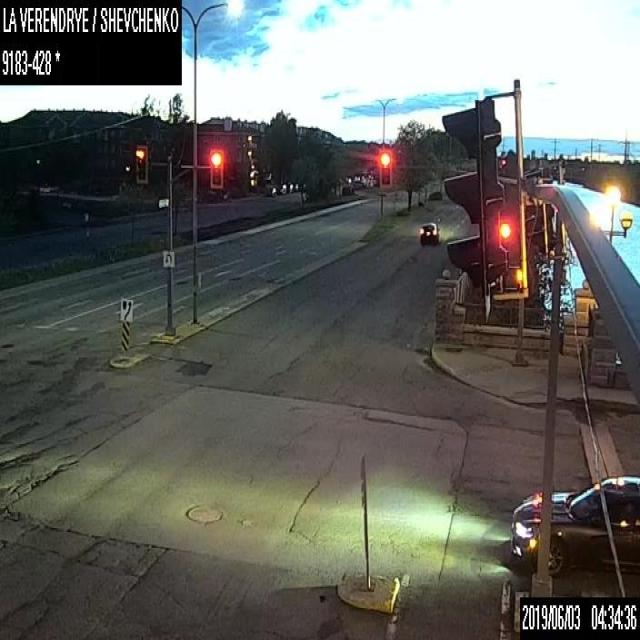vehicle: (511, 473, 639, 578), (419, 221, 439, 244), (267, 184, 279, 194), (278, 183, 286, 193), (286, 182, 293, 192), (293, 182, 299, 190)
